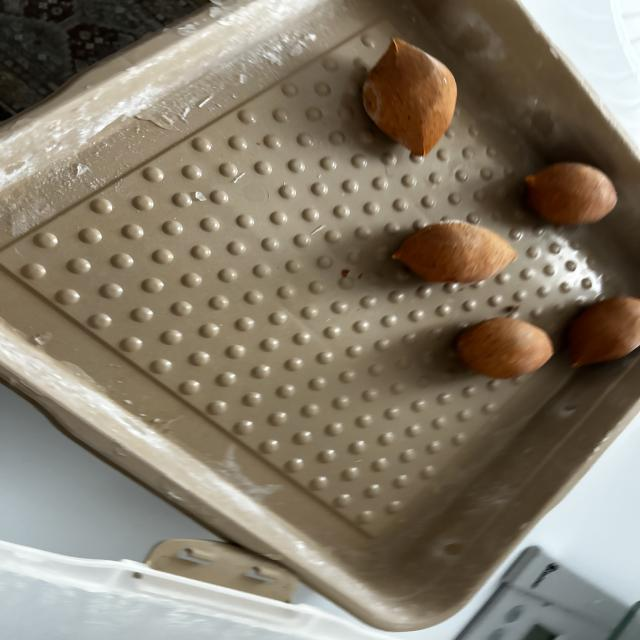kobi: (363, 33, 460, 155), (382, 226, 520, 284), (515, 163, 620, 227), (456, 316, 559, 377), (572, 298, 639, 362)
